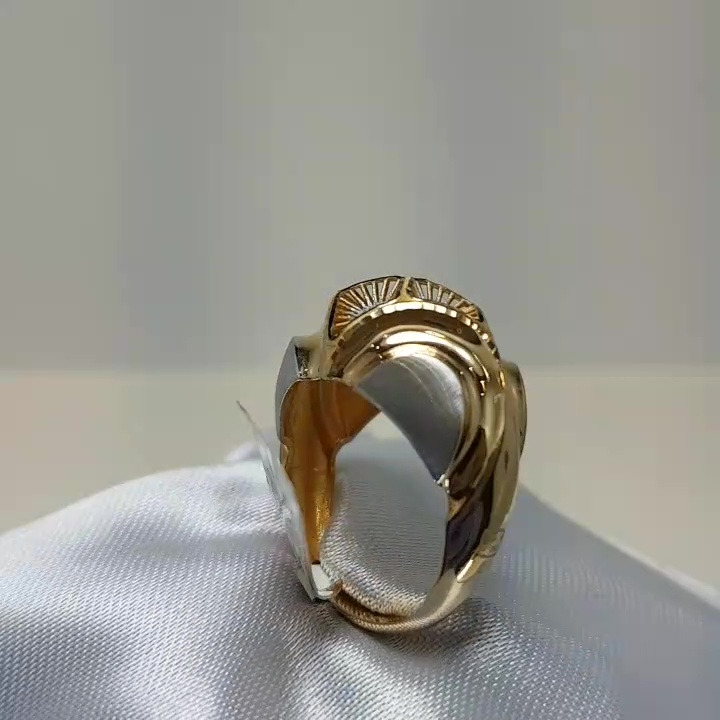Ring 2: (237, 245, 556, 657)
